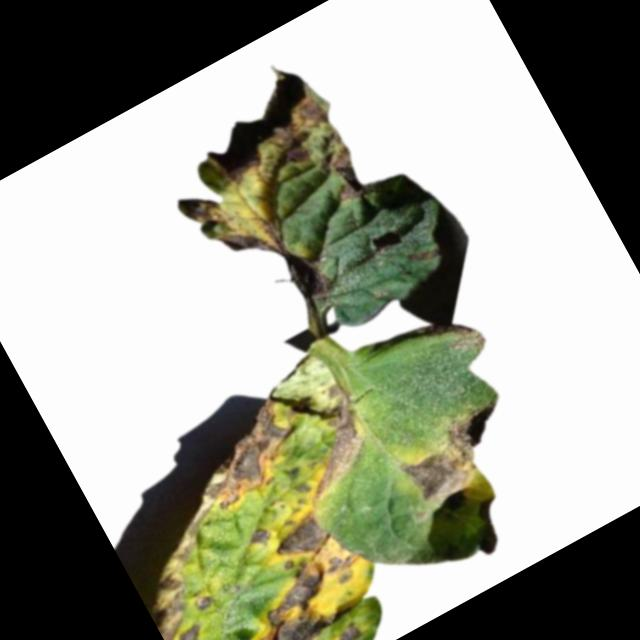Early_blight: (80, 382, 394, 640), (138, 52, 411, 343), (394, 404, 528, 517), (279, 391, 387, 499), (441, 314, 487, 360), (406, 243, 439, 272), (332, 620, 365, 640)
